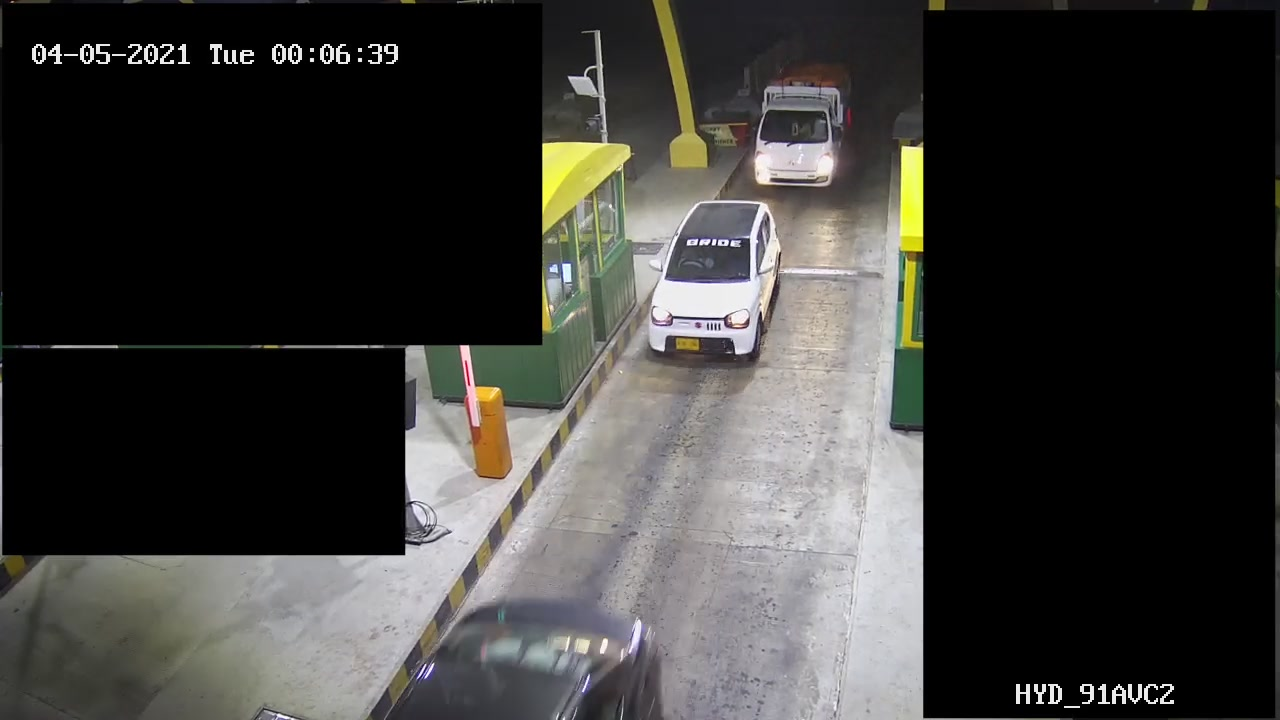F1: (637, 196, 793, 377)
